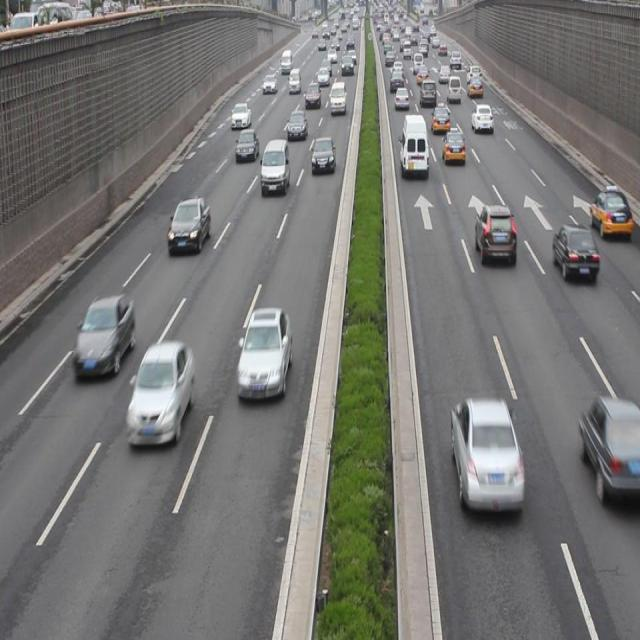car: (450, 398, 525, 522), (579, 394, 640, 506), (129, 340, 193, 443), (72, 298, 134, 376), (236, 311, 289, 401), (550, 223, 596, 283), (475, 207, 515, 267), (167, 201, 210, 256), (588, 188, 629, 234), (260, 142, 290, 195), (310, 138, 335, 174), (442, 128, 465, 166), (236, 129, 259, 164), (469, 103, 494, 133), (287, 110, 305, 142), (431, 102, 448, 134)
truck: (400, 114, 428, 176)
